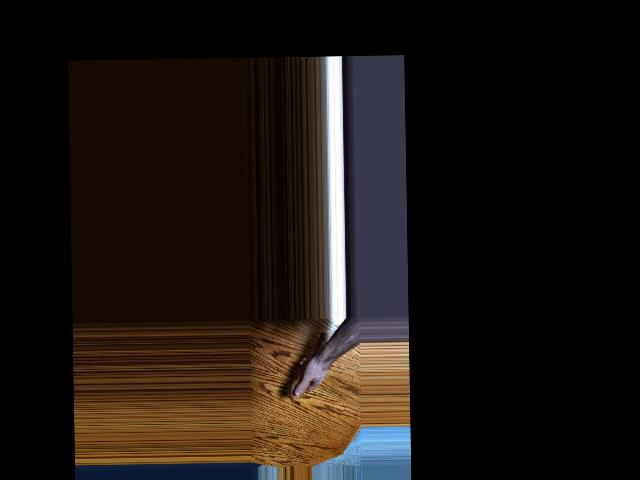sweet_potato: (287, 320, 329, 402)
